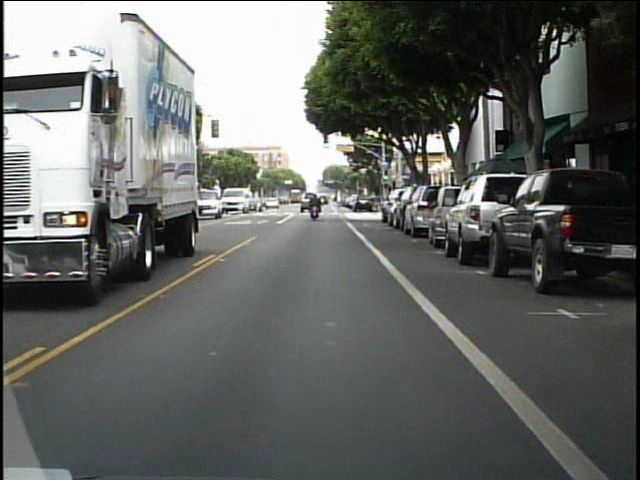person: (309, 192, 323, 222)
